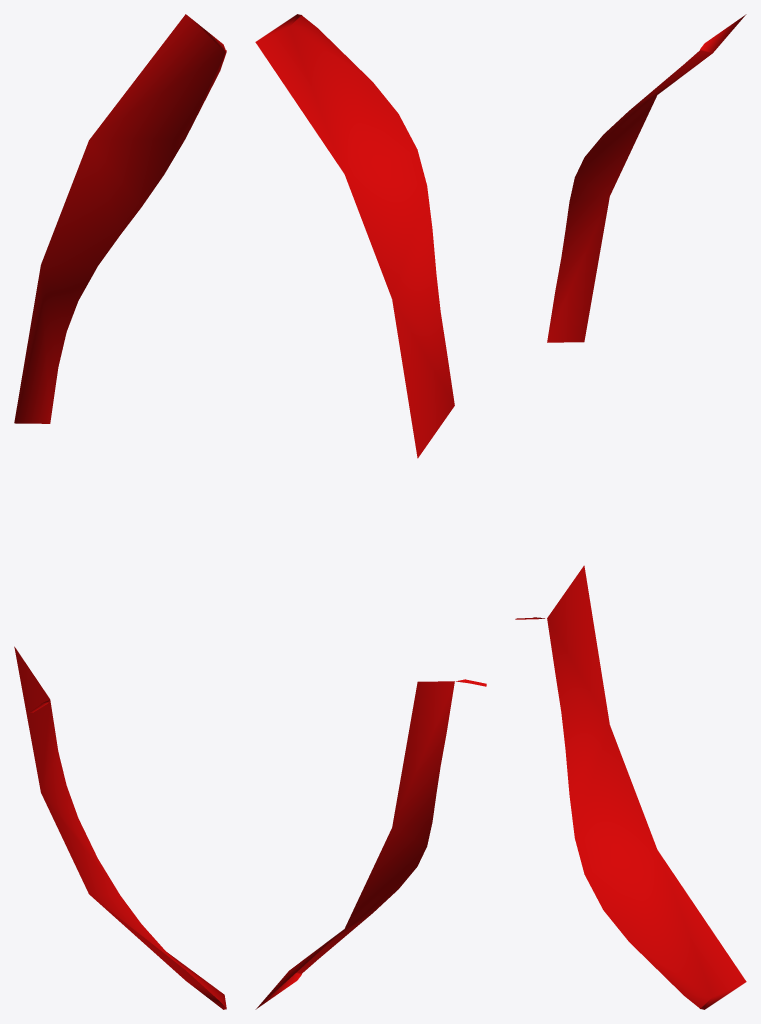
File: backlights.glb
The picture shows the model from 3 angles, left to right: view 1: azimuth 30°, elevation 25°; view 2: azimuth 150°, elevation 25°; view 3: azimuth 330°, elevation 25°; orthographic projection.
Parts seen in each view (by area): view 1: backlights; view 2: backlights; view 3: backlights.
Part boxes in pixels (bbox=[...]): backlights: bbox=[14, 14, 226, 1009]; backlights: bbox=[255, 14, 486, 1009]; backlights: bbox=[515, 14, 746, 1009].
Bounding box in the file's own units: 0.1788 × 0.8431 × 0.1036.
